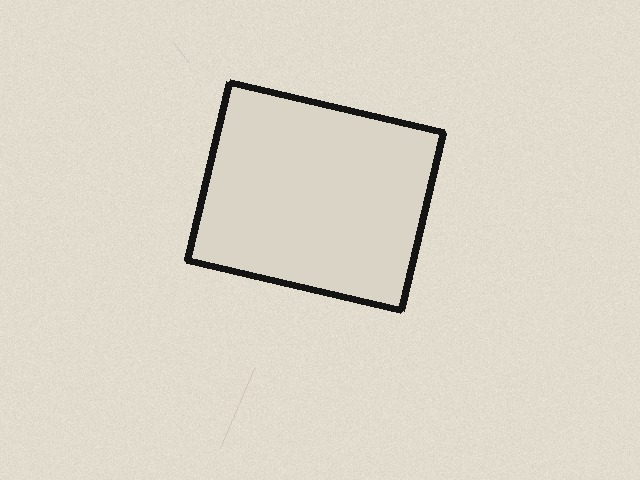parking_area: (187, 82, 443, 310)
